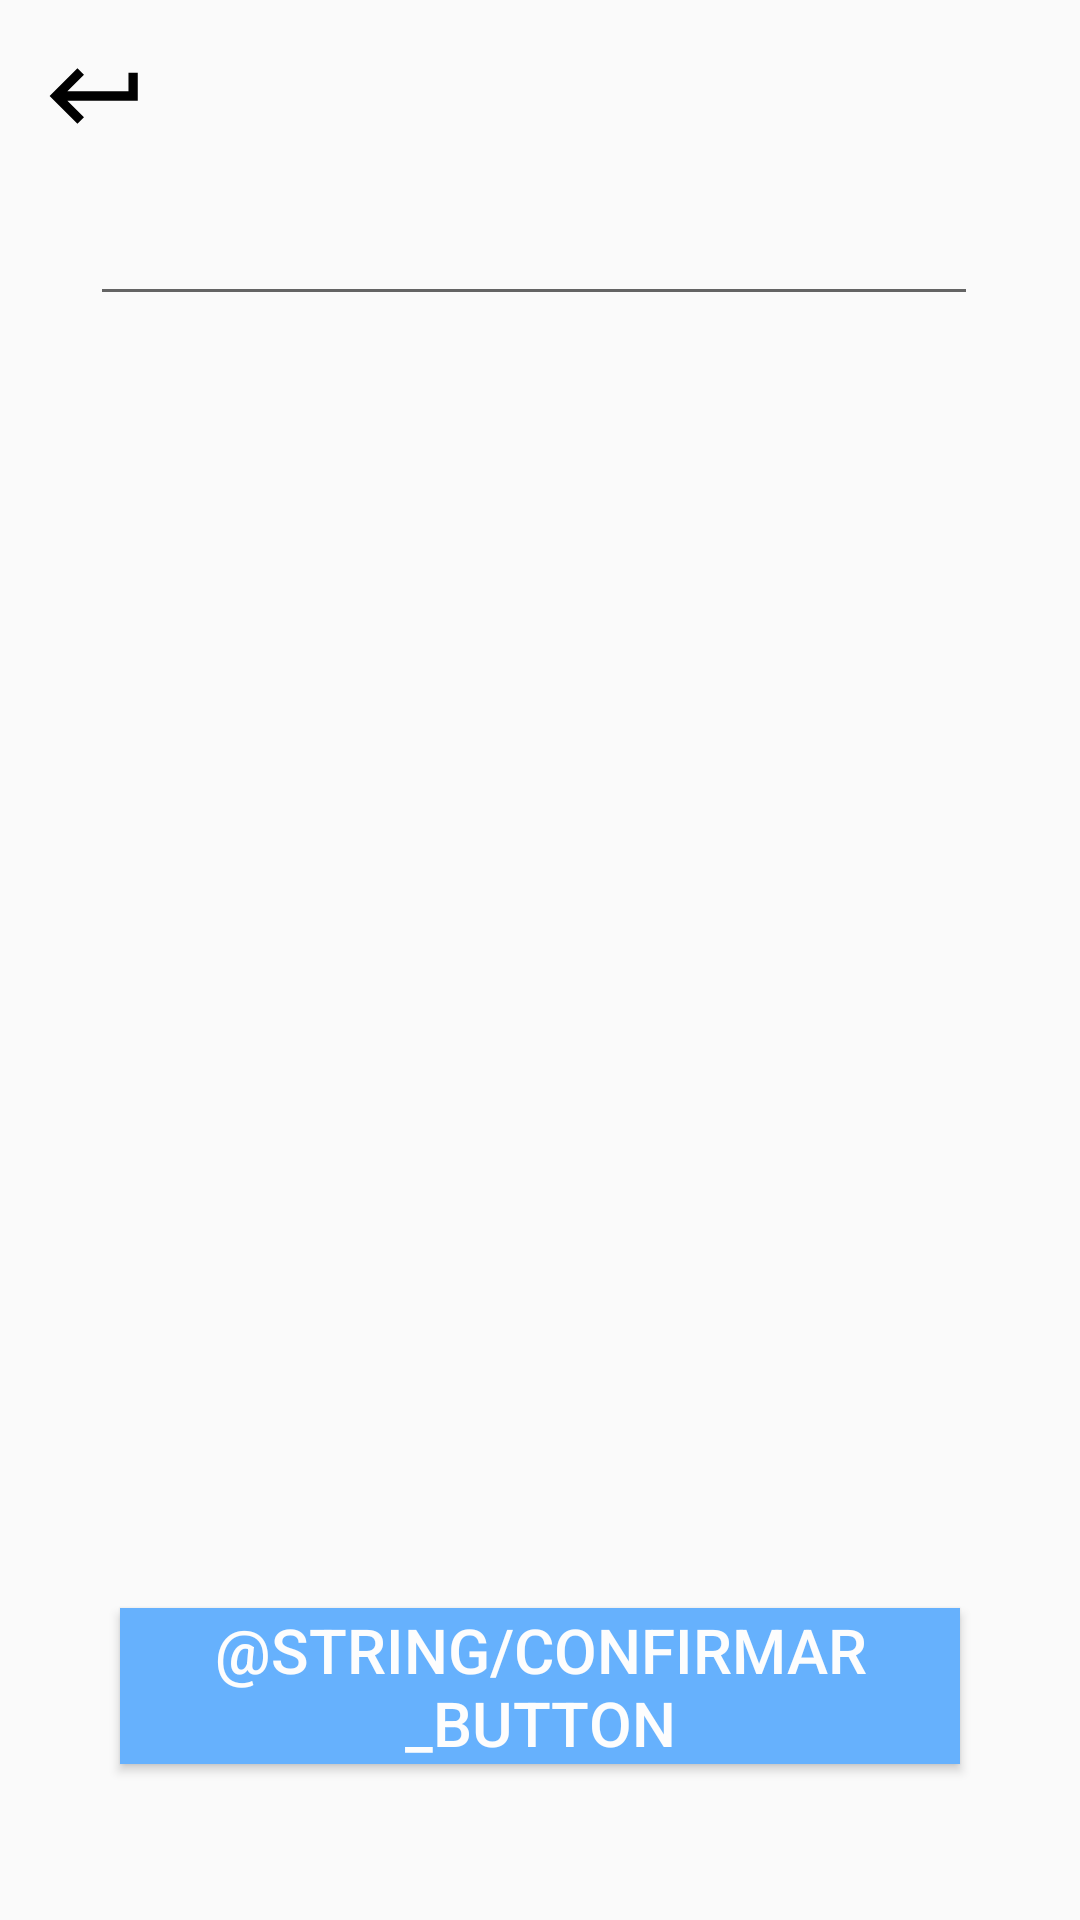

Screen size 1080px×1920px. Icon name, then its box in pixels as (x1, y1, x2, y2):
return: (50, 68, 138, 124)
